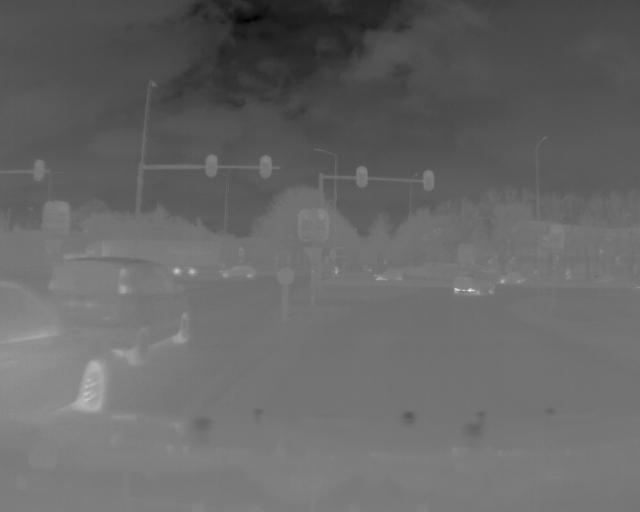car: (1, 277, 110, 413), (67, 254, 191, 364), (453, 270, 498, 300), (219, 263, 257, 281)
